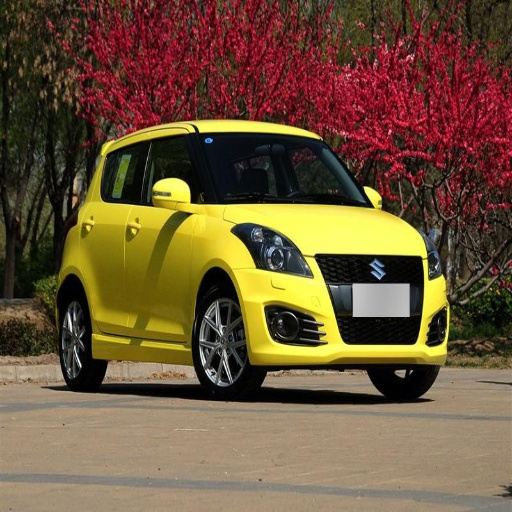front_bumper: (239, 253, 443, 363)
front_right_door: (127, 136, 195, 333)
front_right_light: (234, 225, 314, 276)
